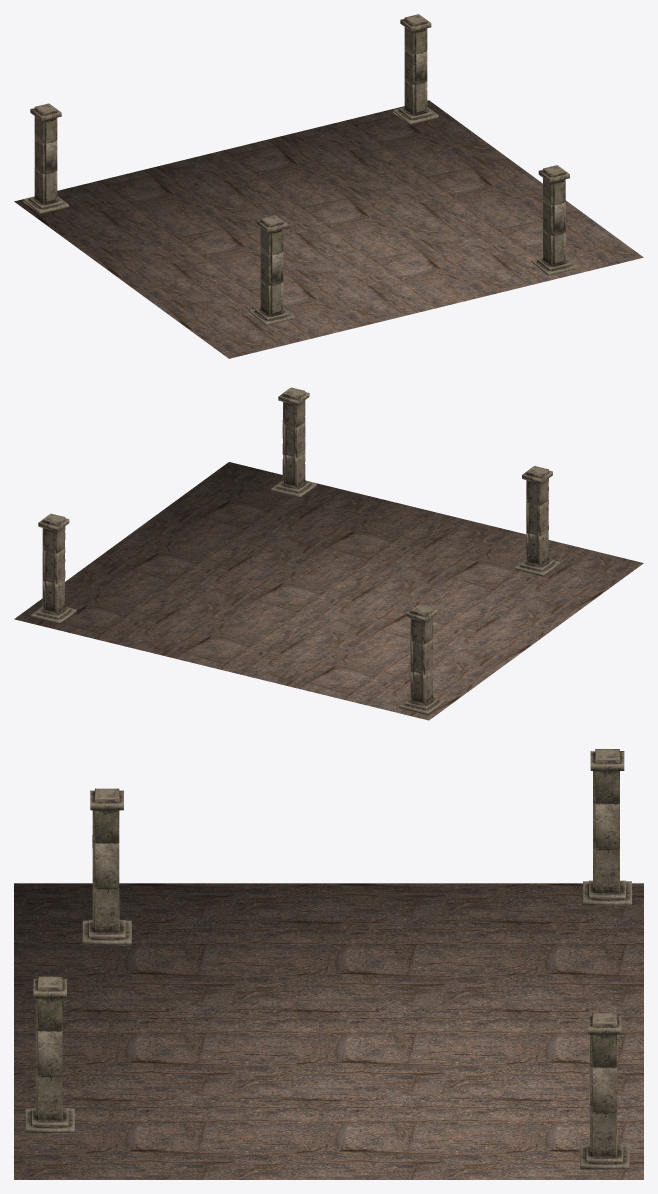
The model's file is PillarsAndFloor.glb.
The picture shows the model from 3 angles, top to bottom: view 1: azimuth 30°, elevation 25°; view 2: azimuth 150°, elevation 25°; view 3: azimuth 270°, elevation 25°; orthographic projection. The views are drawn at different scales.
Parts seen in each view (by area): view 1: Floor, Pillar_low_Material_0.001, Pillar_low_Material_0.002, Pillar_low_Material_0.003, Pillar_low_Material_0; view 2: Floor, Pillar_low_Material_0, Pillar_low_Material_0.003, Pillar_low_Material_0.002, Pillar_low_Material_0.001; view 3: Floor, Pillar_low_Material_0, Pillar_low_Material_0.001, Pillar_low_Material_0.002, Pillar_low_Material_0.003.
Boxes of the visible parts, x1,y1,x2,y2 form: Floor: (14, 100, 643, 358); Pillar_low_Material_0.001: (249, 215, 294, 325); Pillar_low_Material_0.002: (23, 103, 68, 213); Pillar_low_Material_0.003: (393, 14, 438, 124); Pillar_low_Material_0: (531, 165, 577, 275); Floor: (14, 462, 643, 720); Pillar_low_Material_0: (271, 387, 316, 498); Pillar_low_Material_0.003: (31, 513, 76, 624); Pillar_low_Material_0.002: (399, 604, 444, 714); Pillar_low_Material_0.001: (514, 466, 560, 576); Floor: (14, 883, 643, 1179); Pillar_low_Material_0: (25, 976, 74, 1133); Pillar_low_Material_0.001: (82, 788, 131, 945); Pillar_low_Material_0.002: (583, 749, 632, 905); Pillar_low_Material_0.003: (580, 1013, 629, 1169).
Size of the model in its own units: 1022 by 230 by 917.
Materials: 2 (2 with a texture image).
